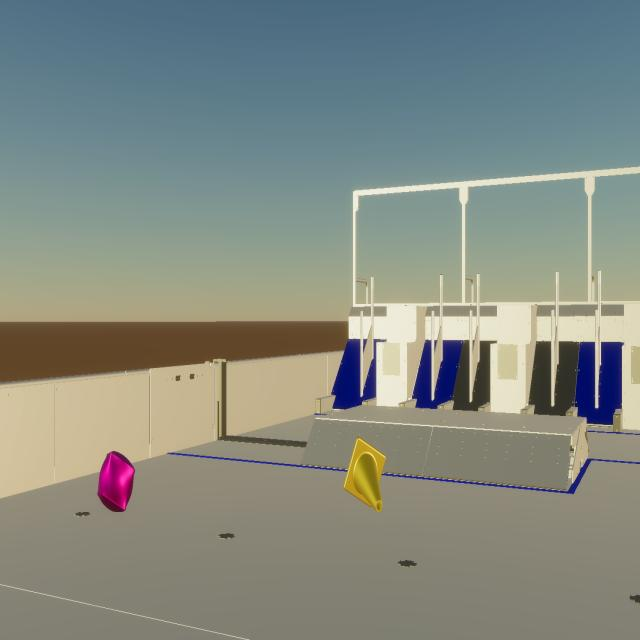frc_cone: (344, 437, 386, 512)
frc_cube: (97, 451, 135, 512)
